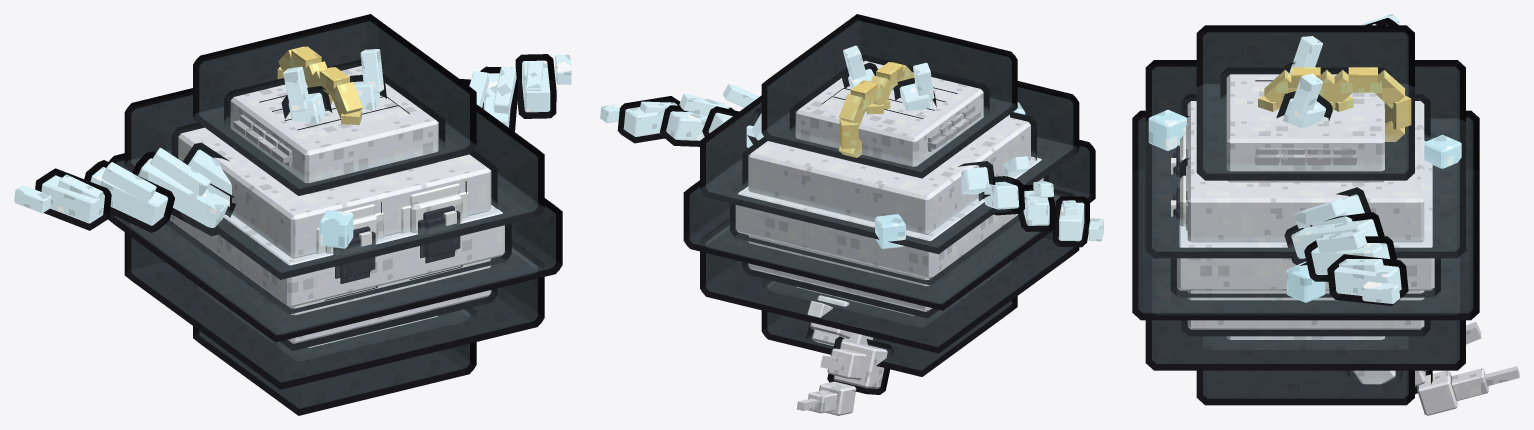
Rendered from snow_wisp_03.glb.
The picture shows the model from 3 angles, left to right: view 1: azimuth 30°, elevation 25°; view 2: azimuth 150°, elevation 25°; view 3: azimuth 270°, elevation 25°; orthographic projection. The views are drawn at different scales.
Parts seen in each view (by area): view 1: model; view 2: model; view 3: model.
Part boxes in pixels (x1,y1,x2,y2): model: (14,14,571,415); model: (600,14,1103,415); model: (1132,14,1519,415).
Bounding box in the file's own units: 2.28 × 1.37 × 1.35.
Materials: 9 (8 with a texture image).
